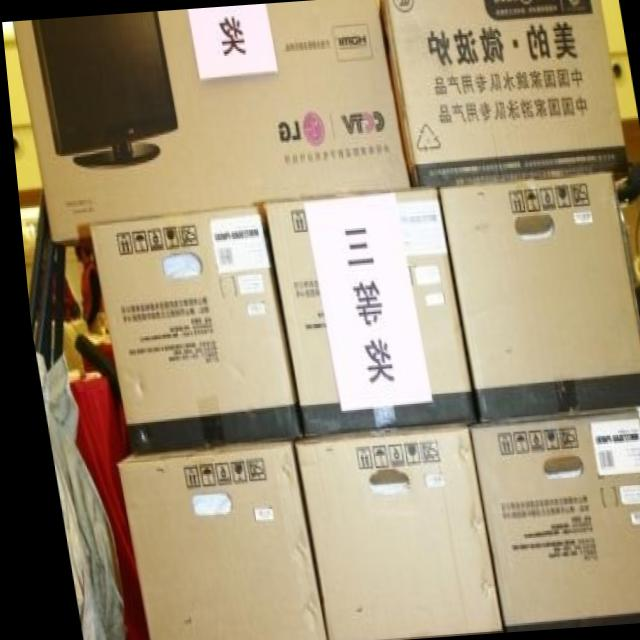box: (12, 0, 407, 243), (84, 203, 297, 458), (259, 186, 470, 439), (434, 171, 640, 423), (378, 0, 625, 188), (286, 425, 490, 640), (108, 442, 315, 640), (460, 405, 640, 630)
